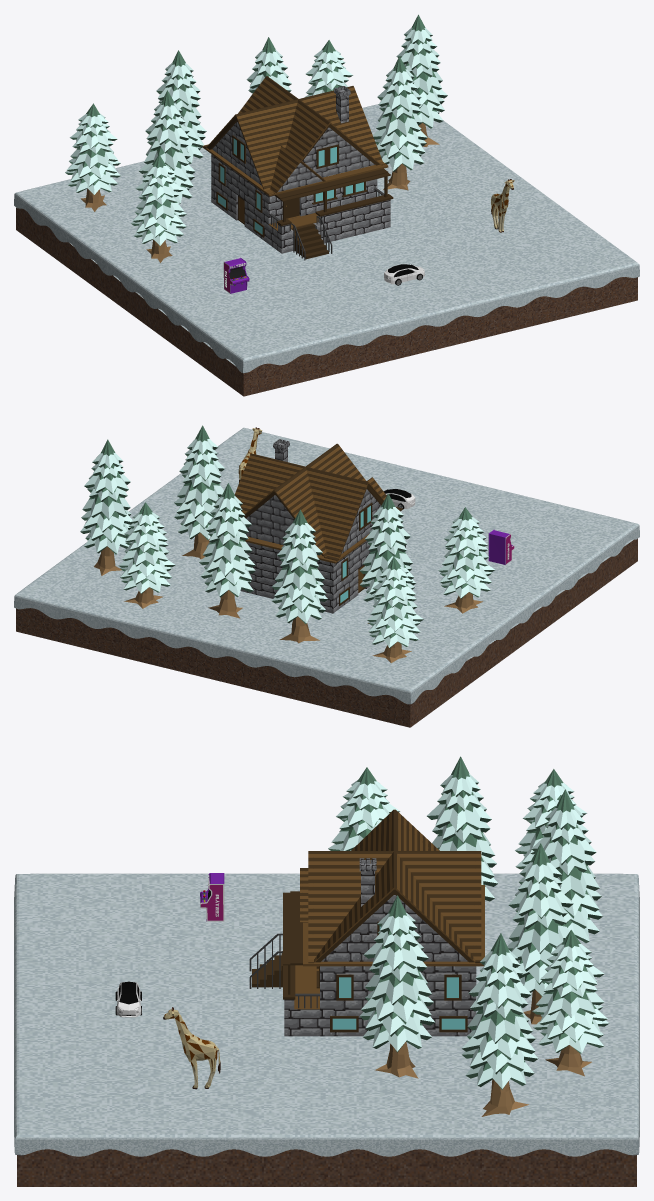
3 views of the same model, one above another, from view 1: azimuth 30°, elevation 25°; view 2: azimuth 150°, elevation 25°; view 3: azimuth 270°, elevation 25° (orthographic). The views are drawn at different scales.
Parts seen in each view (by area): view 1: Cube.003, Cube.586, OBJRANDOM_ARCADE, ANIMAL_JIRAFA, VEHICLES_TESLA; view 2: Cube.003, Cube.586, OBJRANDOM_ARCADE, VEHICLES_TESLA; view 3: Cube.003, Cube.586, ANIMAL_JIRAFA, OBJRANDOM_ARCADE, VEHICLES_TESLA.
Part boxes in pixels (<box>): Cube.003: <box>14,14,639,396</box>; Cube.586: <box>202,76,393,260</box>; OBJRANDOM_ARCADE: <box>223,257,249,293</box>; ANIMAL_JIRAFA: <box>491,179,514,232</box>; VEHICLES_TESLA: <box>384,264,424,285</box>; Cube.003: <box>14,425,639,727</box>; Cube.586: <box>234,439,405,613</box>; OBJRANDOM_ARCADE: <box>488,529,514,564</box>; VEHICLES_TESLA: <box>383,489,415,508</box>; Cube.003: <box>14,756,639,1186</box>; Cube.586: <box>249,809,484,1036</box>; ANIMAL_JIRAFA: <box>163,1007,220,1089</box>; OBJRANDOM_ARCADE: <box>200,873,224,921</box>; VEHICLES_TESLA: <box>115,981,141,1017</box>.
Size of the model in its own units: 4040 by 1665 by 4040.
35 materials, 4 textured.
